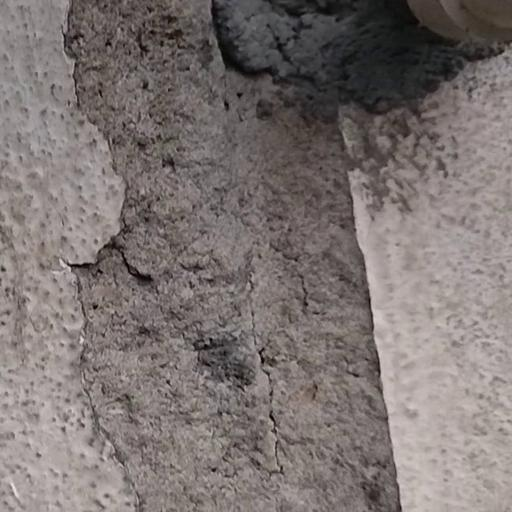spalling: (65, 0, 465, 512)
